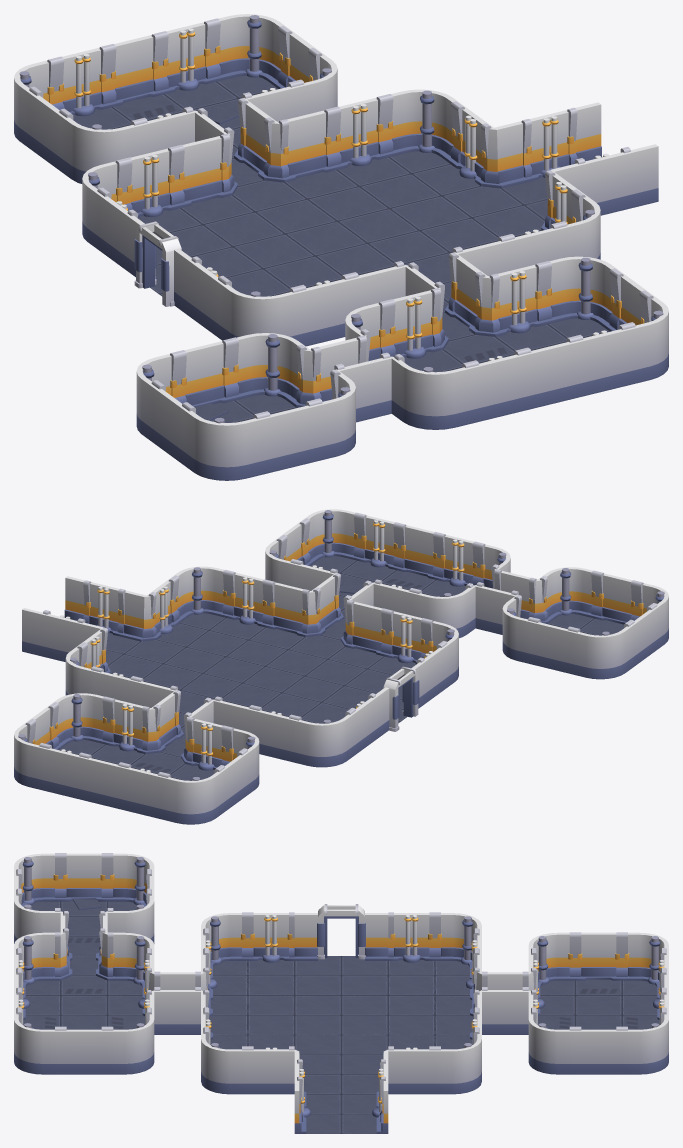
Rendered from sala1.glb.
3 views of the same model, one above another, from view 1: azimuth 30°, elevation 25°; view 2: azimuth 150°, elevation 25°; view 3: azimuth 270°, elevation 25° (orthographic). The views are drawn at different scales.
Parts seen in each view (by area): view 1: template-wall.010; view 2: template-wall.010; view 3: template-wall.010.
Boxes of the visible parts, <box> form: template-wall.010: <box>14,14,668,480</box>; template-wall.010: <box>14,509,668,824</box>; template-wall.010: <box>14,853,668,1133</box>.
Bounding box in the file's own units: 48 × 4.62 × 56.
Materials: 78 (78 with a texture image).
